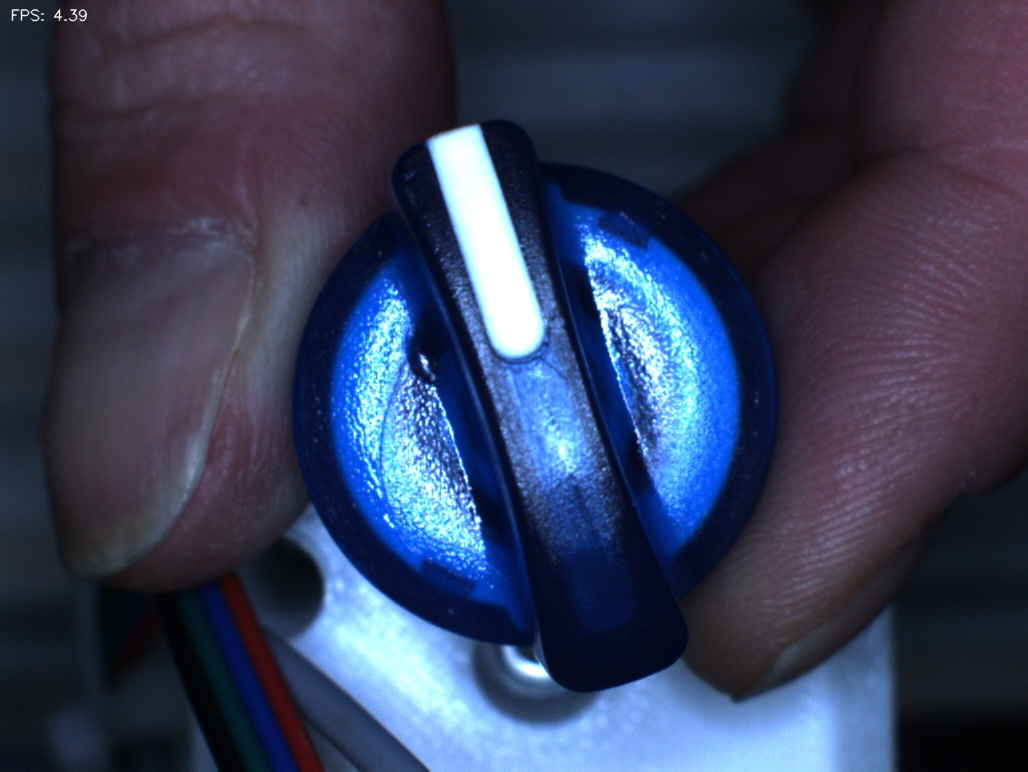Choc: (383, 312, 471, 400)
